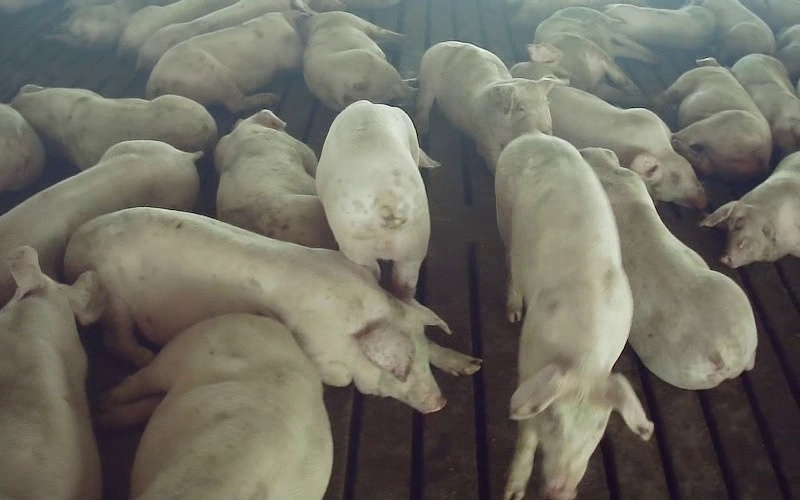pig: (66, 208, 478, 412), (495, 134, 652, 499), (100, 314, 332, 499), (581, 148, 756, 389), (0, 141, 201, 307), (0, 247, 102, 499), (317, 100, 435, 301), (549, 86, 706, 209), (415, 42, 557, 171), (12, 85, 216, 168), (215, 110, 336, 248), (147, 13, 302, 112), (511, 7, 655, 105), (660, 58, 771, 180), (701, 151, 799, 267), (302, 11, 412, 110), (731, 54, 799, 164)
